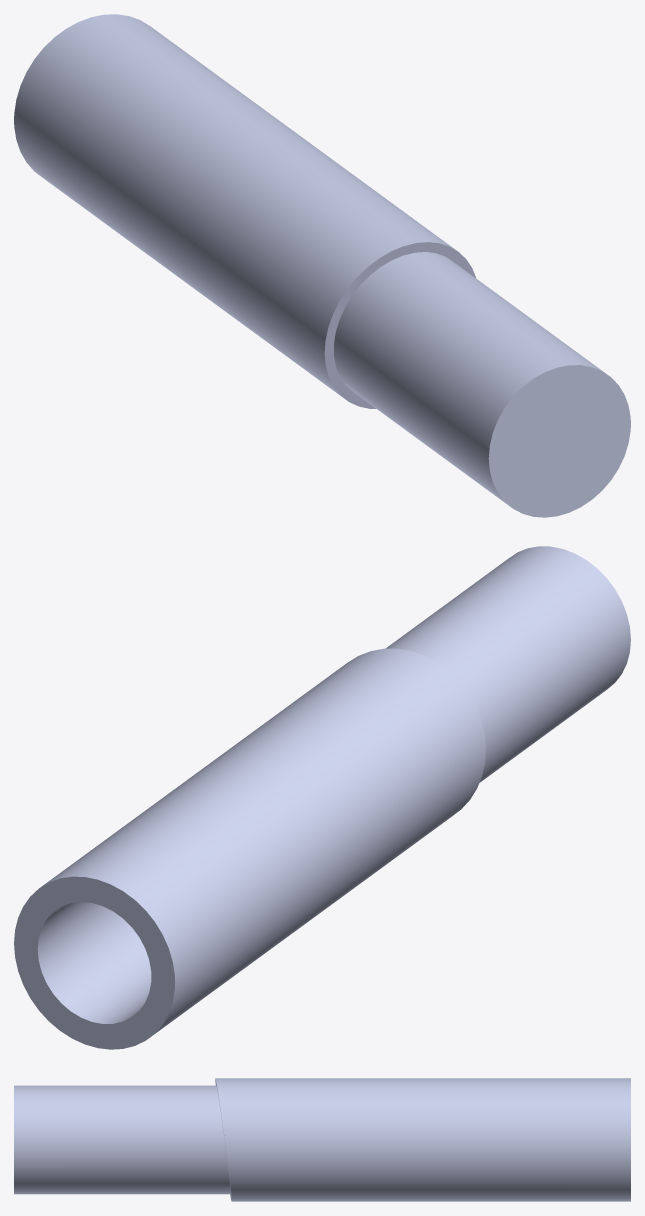
The model's file is Sleeve.glb.
3 views of the same model, one above another, from view 1: azimuth 30°, elevation 25°; view 2: azimuth 150°, elevation 25°; view 3: azimuth 270°, elevation 25° (orthographic). The views are drawn at different scales.
Visible parts, largest first — view 1: Sleeve; view 2: Sleeve; view 3: Sleeve.
Boxes of the visible parts, bbox=[...] form: Sleeve: bbox=[14, 14, 630, 517]; Sleeve: bbox=[14, 546, 630, 1049]; Sleeve: bbox=[14, 1078, 630, 1201].
Size of the model in its own units: 0.017 by 0.017 by 0.085.
